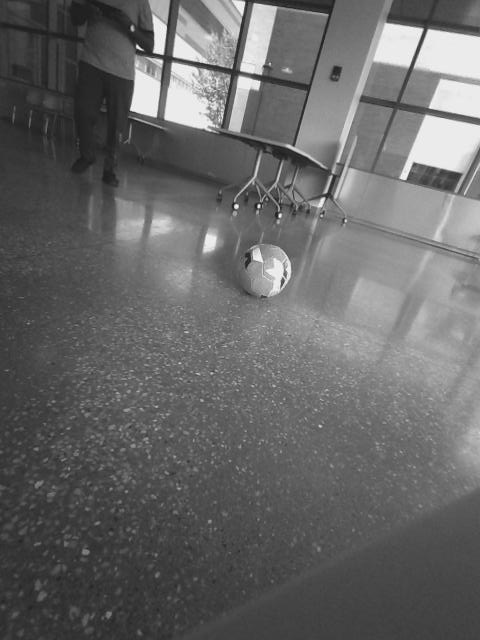ball: (232, 242, 295, 300)
